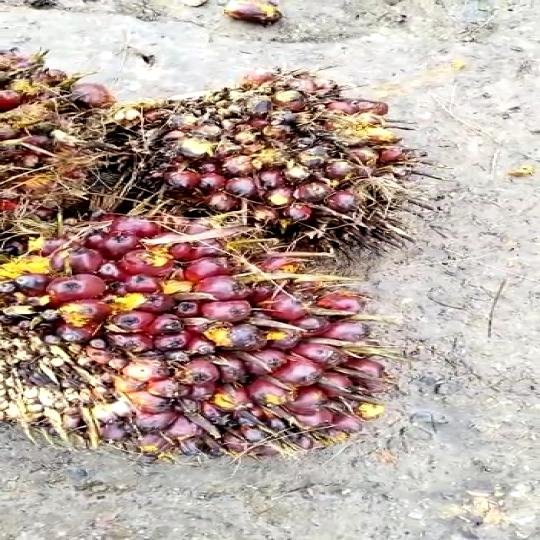masak: (0, 209, 411, 449), (112, 67, 448, 271)
